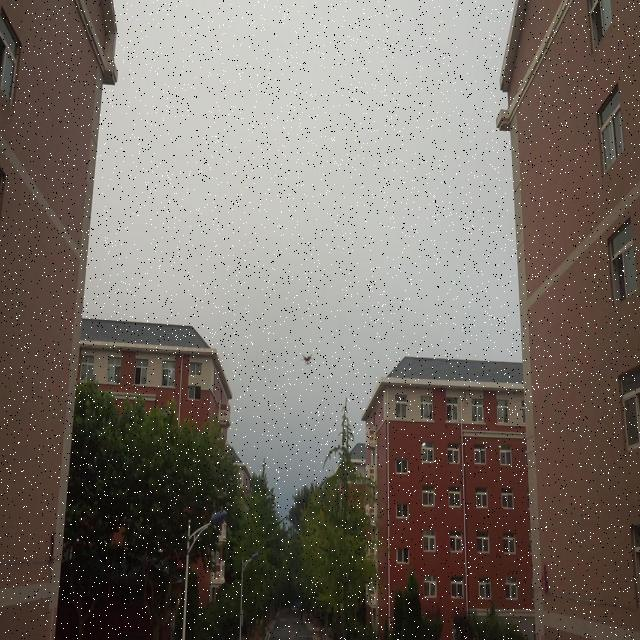UAV: (301, 354, 313, 366)
